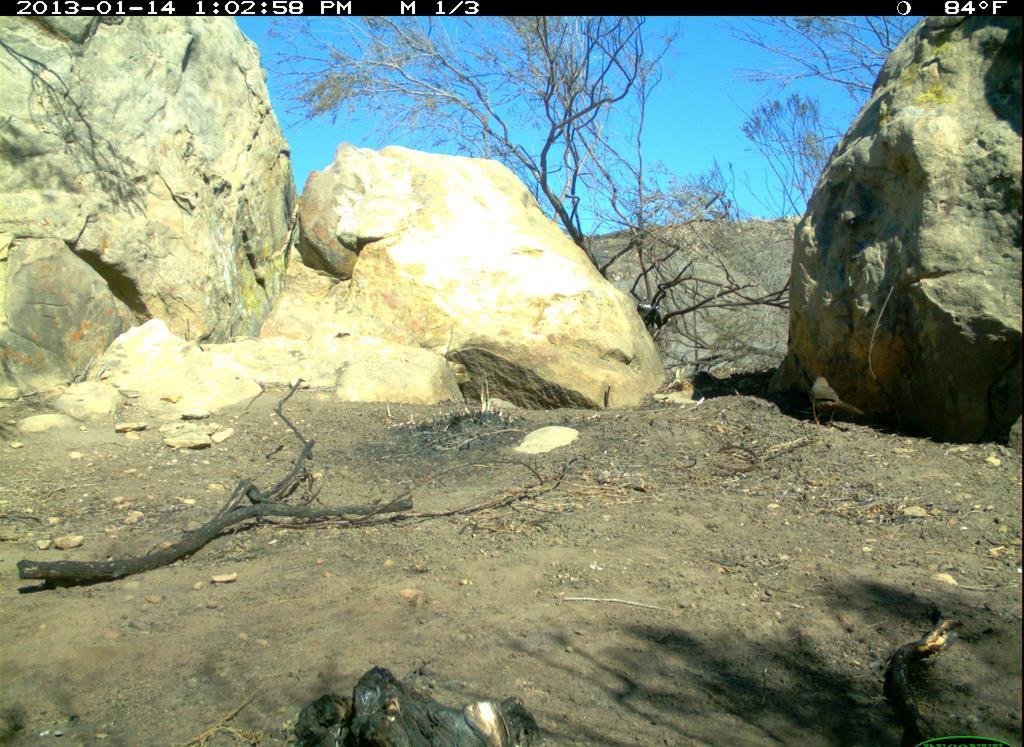bird: (806, 372, 864, 433)
